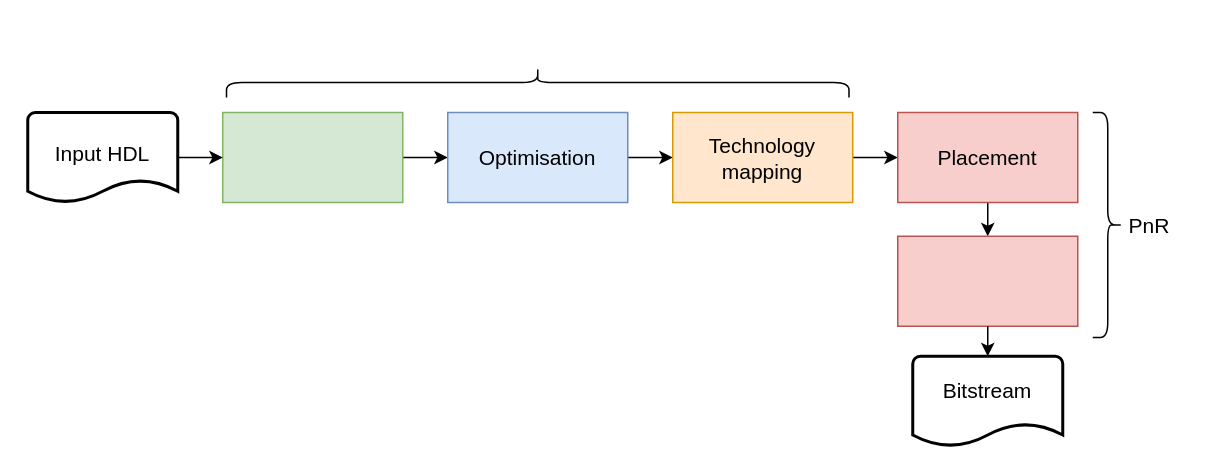
Some shapes in this 1232 by 473 pixel diagram are drawn without their labels. The shapes that lost their labels are listed below. From the top down, each one's centre as x and y in pixels, then its label:
At point 537,82: "Synthesis".
At point 312,156: "Elaboration".
At point 987,280: "Routing".
